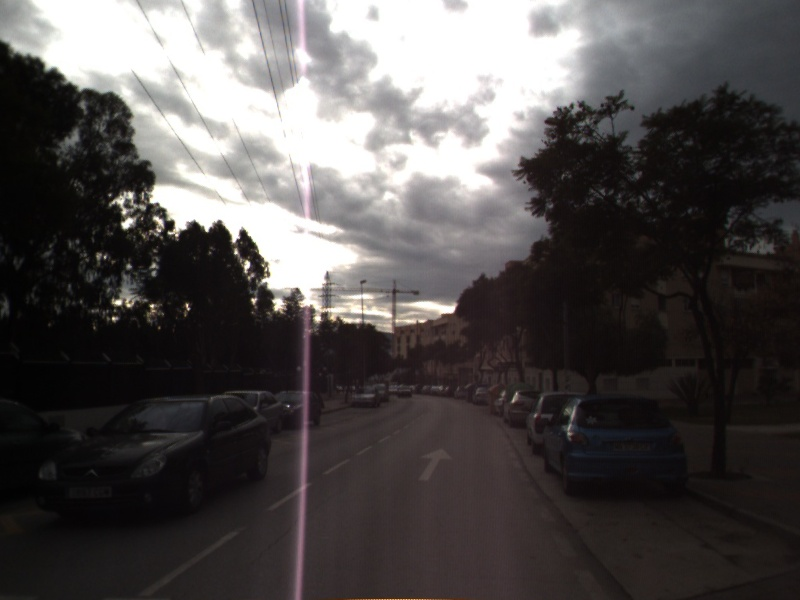STRAIGHT: (416, 446, 456, 483)
